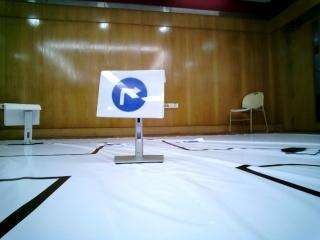right: (104, 71, 165, 120)
